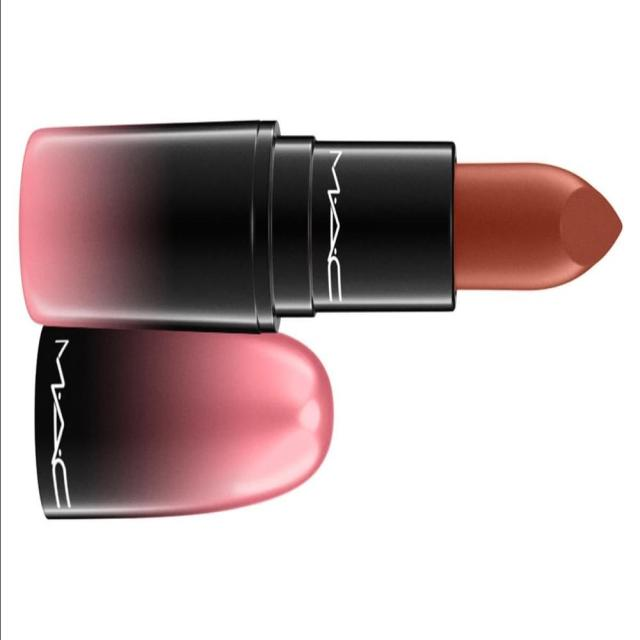lipstick: (14, 90, 630, 516)
